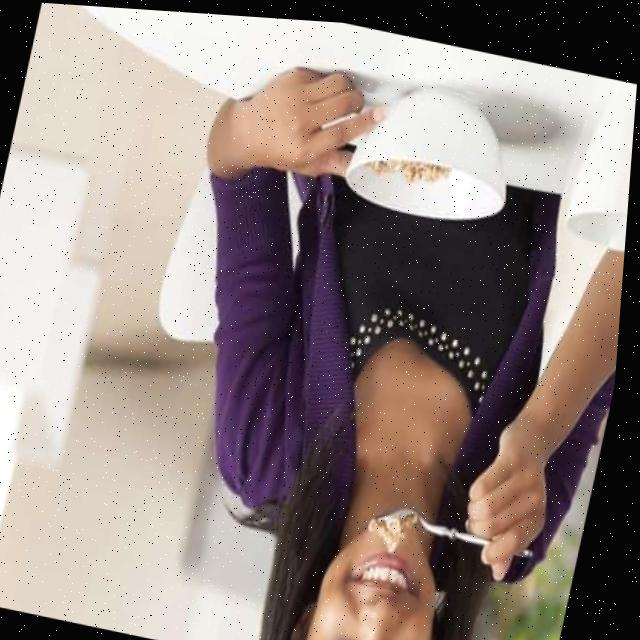eating-person: (108, 8, 640, 640)
